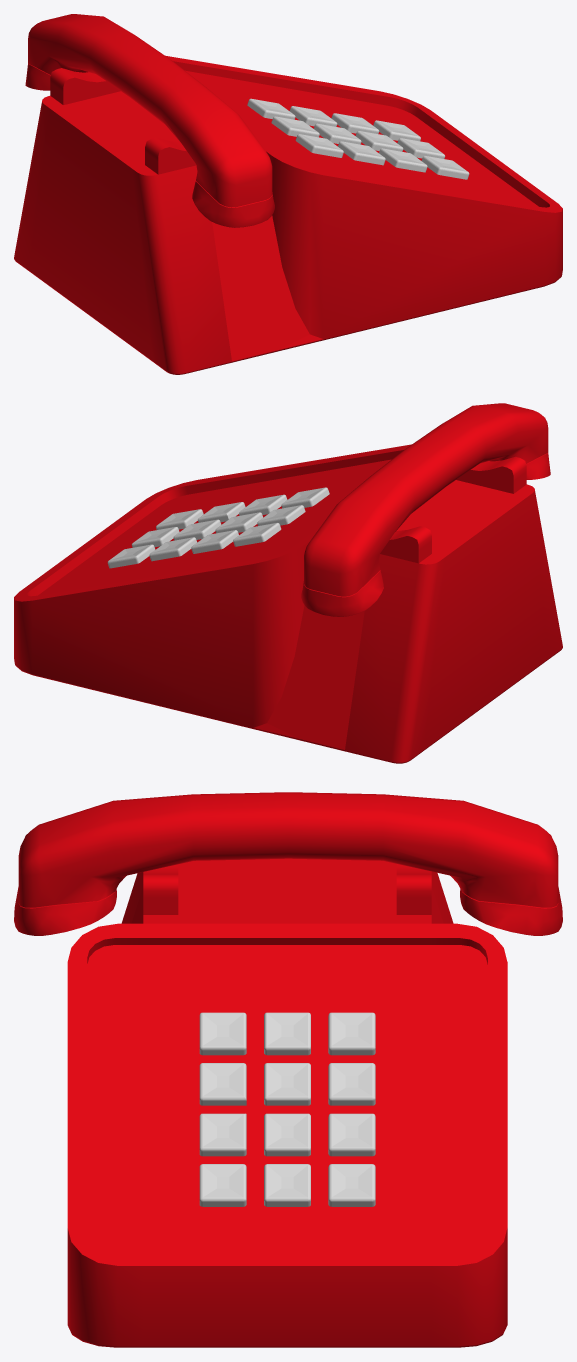
The model's file is Old School Phone.fbx.
3 views of the same model, one above another, from view 1: azimuth 30°, elevation 25°; view 2: azimuth 150°, elevation 25°; view 3: azimuth 270°, elevation 25° (orthographic). The views are drawn at different scales.
Visible parts, largest first — view 1: Phone Base_LOD0, Phone_LOD0; view 2: Phone Base_LOD0, Phone_LOD0; view 3: Phone Base_LOD0, Phone_LOD0.
Part boxes in pixels (x1,y1,x2,y2): Phone Base_LOD0: (14, 55, 562, 374); Phone_LOD0: (25, 14, 274, 227); Phone Base_LOD0: (14, 444, 562, 763); Phone_LOD0: (301, 403, 550, 616); Phone Base_LOD0: (67, 858, 507, 1347); Phone_LOD0: (14, 792, 562, 935).
Size of what is drawn, in the model's own units: 32.69 by 19.25 by 28.85.
